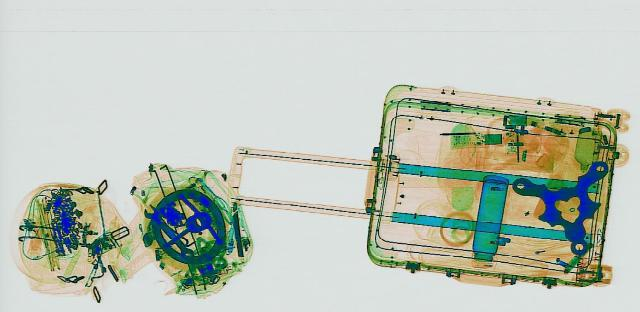Wrench: (134, 203, 198, 258)
